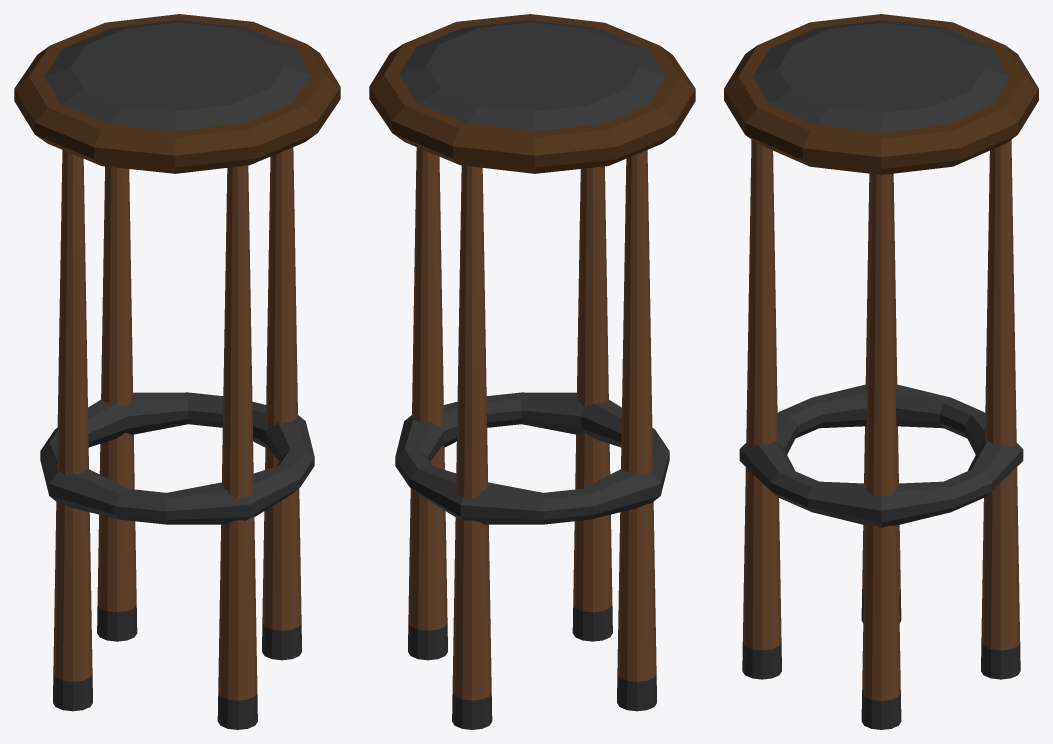
File: Stool.fbx
3 views of the same model, side by side, from view 1: azimuth 30°, elevation 25°; view 2: azimuth 150°, elevation 25°; view 3: azimuth 270°, elevation 25° (orthographic).
Visible parts, largest first — view 1: Stool; view 2: Stool; view 3: Stool.
Boxes of the visible parts, <box> form: Stool: <box>14,14,340,729</box>; Stool: <box>369,14,695,729</box>; Stool: <box>724,14,1038,729</box>.
Size of the model in its own units: 818 by 1674 by 792.
